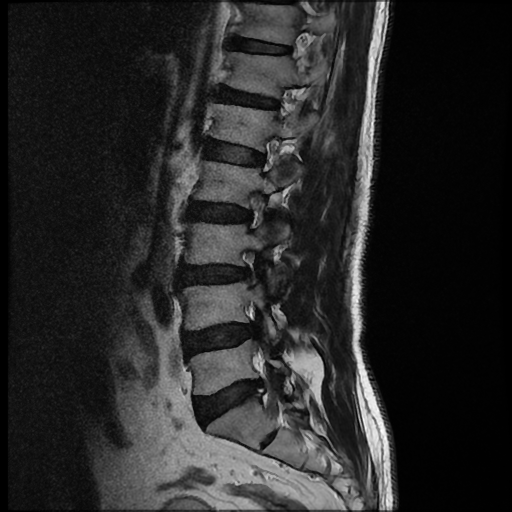RFS0: (245, 125, 289, 180), (234, 182, 274, 237)
